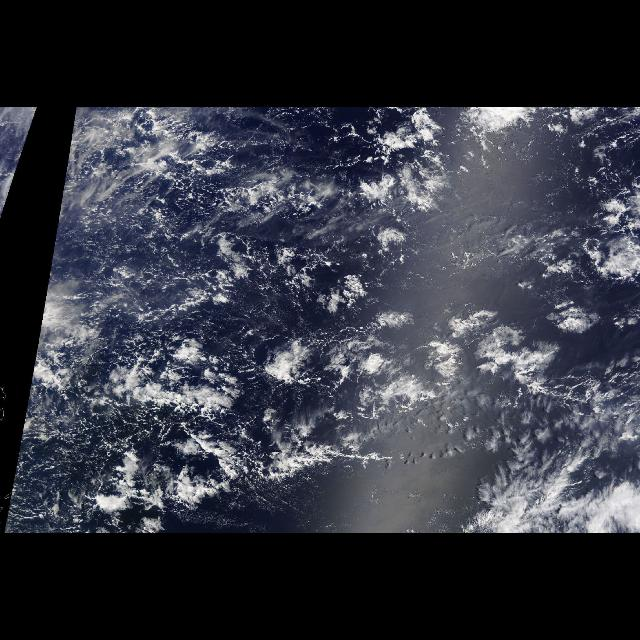Gravel: (9, 107, 398, 525), (9, 108, 39, 192)
